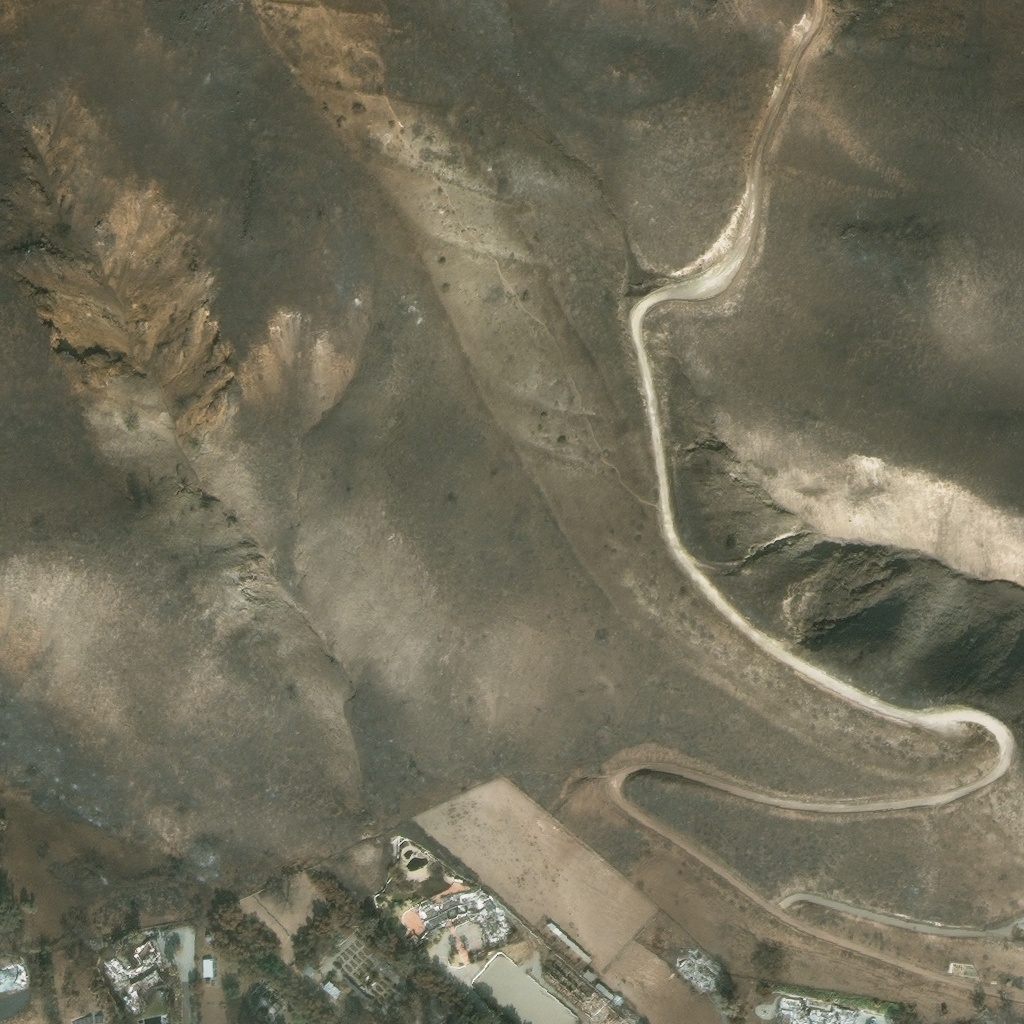0 no-damage: (546, 920, 592, 962), (594, 982, 615, 1000), (581, 968, 595, 981)
3 destroyed: (540, 962, 632, 1023), (412, 887, 508, 942), (775, 993, 854, 1023), (676, 947, 720, 988), (1015, 922, 1023, 937)
4 un-classified: (471, 949, 577, 1023)
